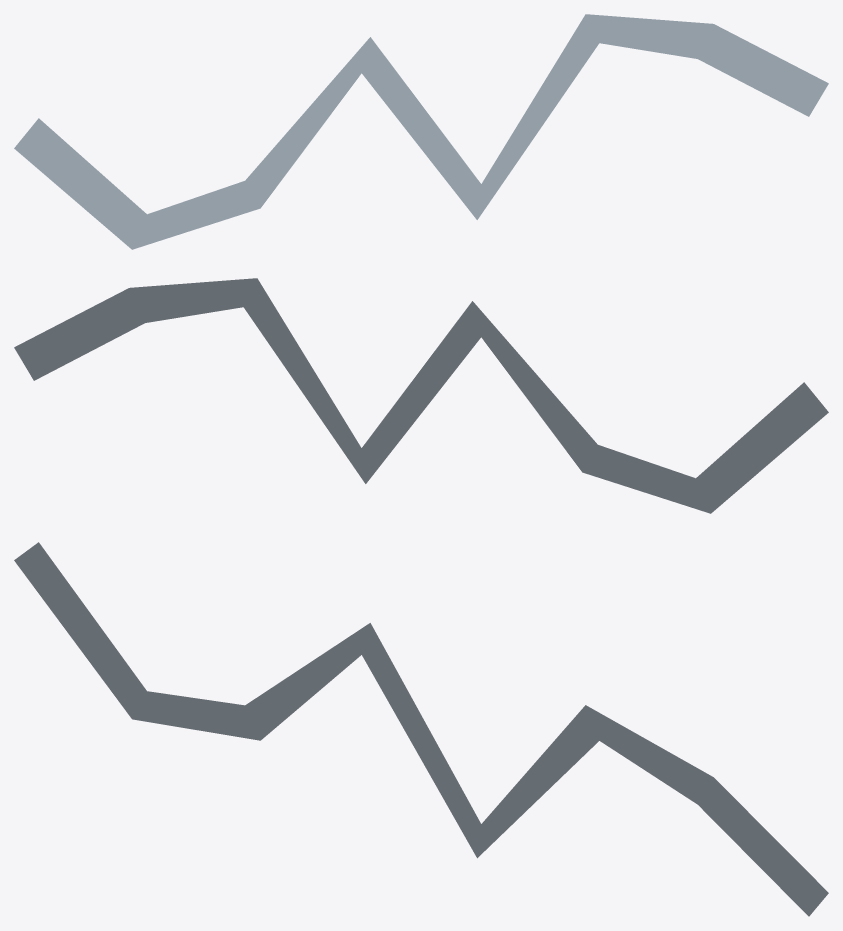
Rendered from 2059_StaticField_GroundArc64.fbx.
3 views of the same model, one above another, from view 1: azimuth 30°, elevation 25°; view 2: azimuth 150°, elevation 25°; view 3: azimuth 330°, elevation 25° (orthographic).
Visible parts, largest first — view 1: PART_GroundArc64; view 2: PART_GroundArc64; view 3: PART_GroundArc64.
Part boxes in pixels (left/top/right/bottom): PART_GroundArc64: left=14, top=14, right=828, bottom=249; PART_GroundArc64: left=14, top=278, right=828, bottom=513; PART_GroundArc64: left=14, top=542, right=828, bottom=916.
Bounding box in the file's own units: 71.98 × 17.7 × 2.88e-06.
